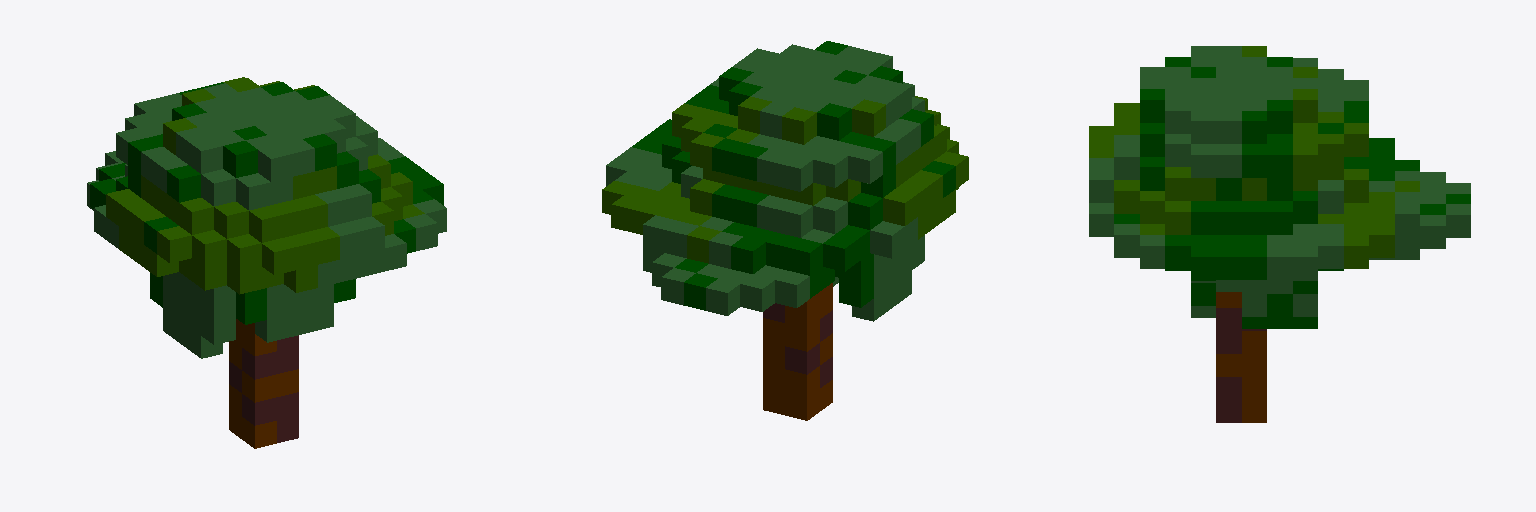
3 renders of one model, left to right at view 1: azimuth 30°, elevation 25°; view 2: azimuth 150°, elevation 25°; view 3: azimuth 270°, elevation 25°, orthographic.
Parts seen in each view (by area): view 1: object 1; view 2: object 1; view 3: object 1.
Boxes of the visible parts, <box> form: object 1: <box>87,77,446,448</box>; object 1: <box>602,41,968,420</box>; object 1: <box>1089,46,1470,422</box>.
Bounding box in the file's own units: 1.3 × 1.4 × 1.5.
1 materials, 1 textured.